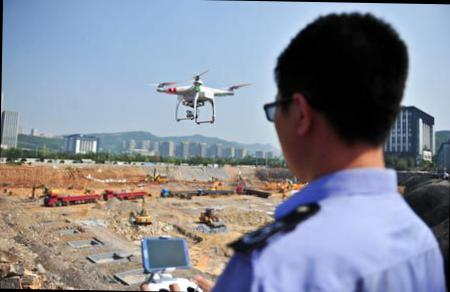drone: (154, 67, 239, 125)
